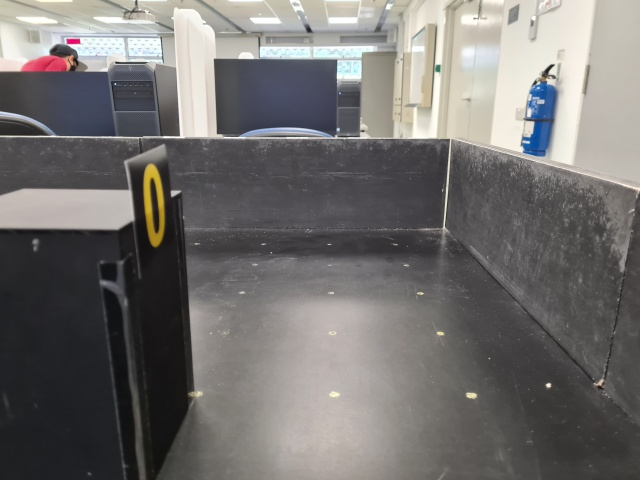zero: (124, 143, 179, 280)
